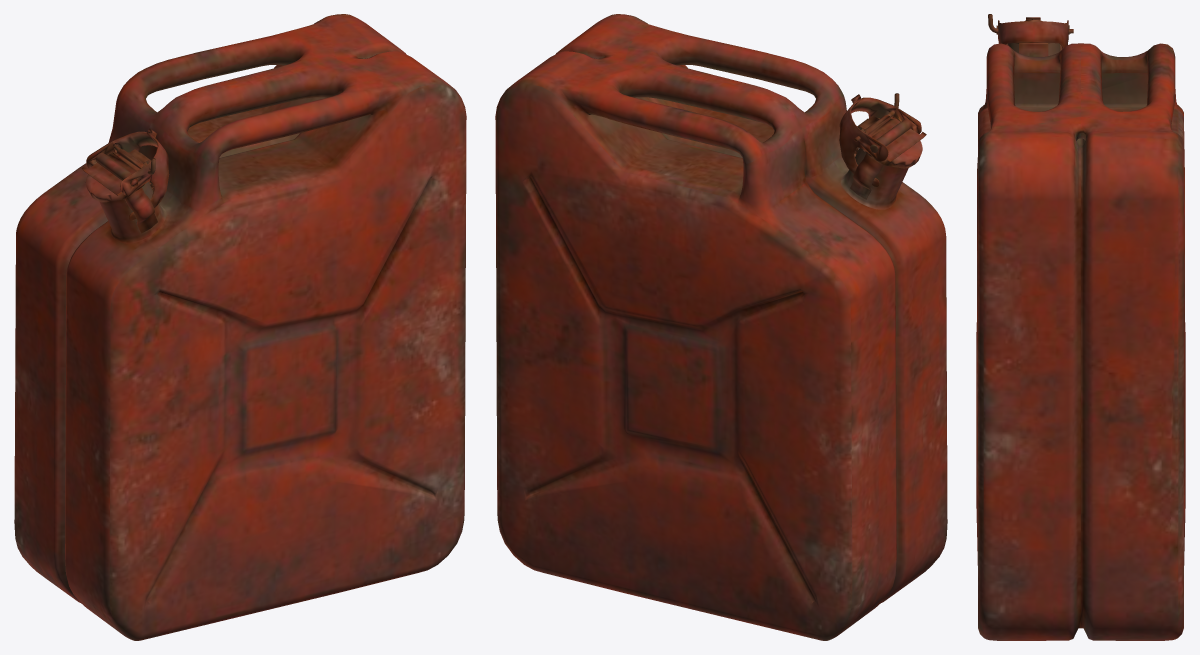
The model's file is metal_jerrycan.glb.
3 views of the same model, side by side, from view 1: azimuth 30°, elevation 25°; view 2: azimuth 150°, elevation 25°; view 3: azimuth 270°, elevation 25° (orthographic). The views are drawn at different scales.
Visible parts, largest first — view 1: metal_jerrycan; view 2: metal_jerrycan; view 3: metal_jerrycan.
Boxes of the visible parts, box(x1,y1,x2,y2) form: metal_jerrycan: box(14, 14, 466, 640); metal_jerrycan: box(495, 14, 947, 640); metal_jerrycan: box(976, 14, 1185, 640).
Bounding box in the file's own units: 0.3502 × 0.455 × 0.1717.
1 material, 1 textured.
